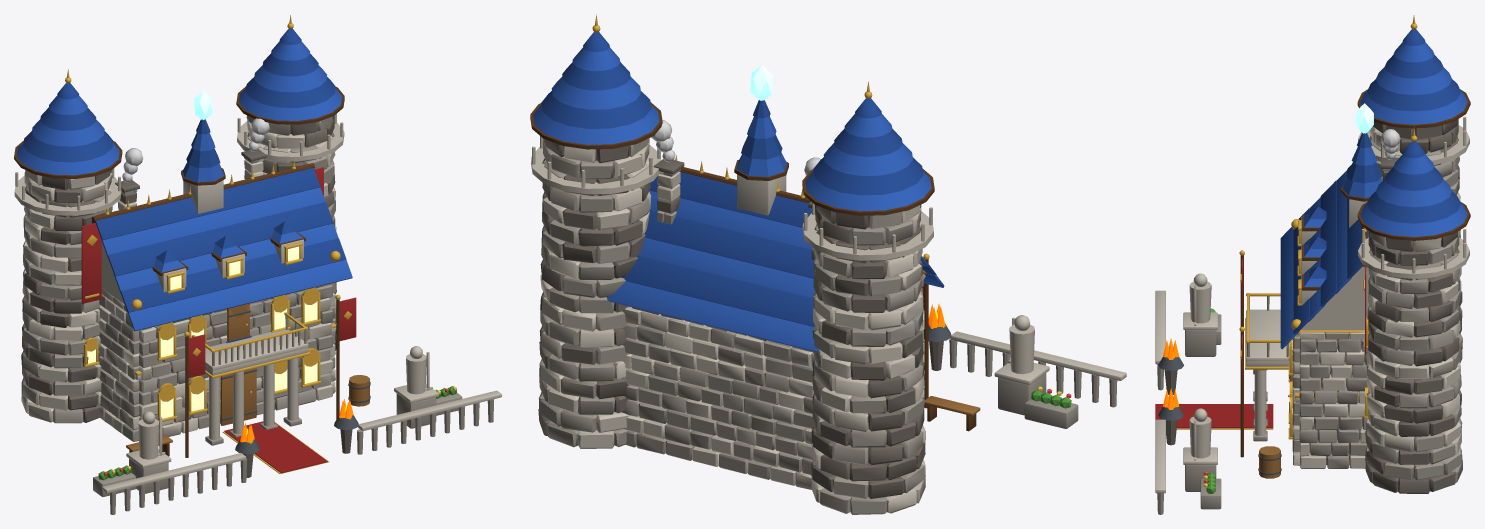
File: budynek_glowny_poz20.glb
3 renders of one model, left to right at view 1: azimuth 30°, elevation 25°; view 2: azimuth 150°, elevation 25°; view 3: azimuth 270°, elevation 25°, orthographic. The views are drawn at different scales.
Visible parts, largest first — view 1: budynek_glowny_poz20; view 2: budynek_glowny_poz20; view 3: budynek_glowny_poz20.
Part boxes in pixels (bbox=[...]): budynek_glowny_poz20: bbox=[14, 15, 501, 514]; budynek_glowny_poz20: bbox=[530, 14, 1126, 514]; budynek_glowny_poz20: bbox=[1155, 15, 1470, 514].
Bounding box in the file's own units: 13.6 × 11.09 × 9.08.
